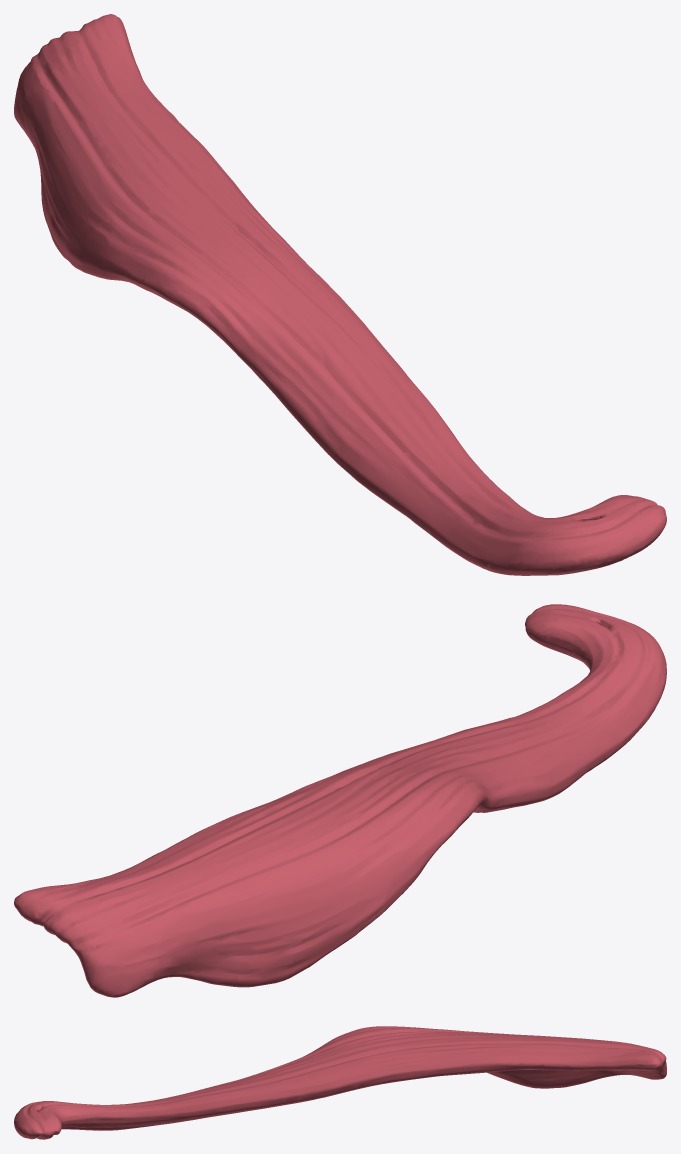
3 views of the same model, one above another, from view 1: azimuth 30°, elevation 25°; view 2: azimuth 150°, elevation 25°; view 3: azimuth 270°, elevation 25° (orthographic). The views are drawn at different scales.
Parts seen in each view (by area): view 1: 右侧腭咽肌; view 2: 右侧腭咽肌; view 3: 右侧腭咽肌.
Boxes of the visible parts, x1,y1,x2,y2 form: 右侧腭咽肌: (14,14,666,575); 右侧腭咽肌: (14,604,666,997); 右侧腭咽肌: (14,1026,666,1139).
Size of the model in its own units: 0.0302 by 0.0225 by 0.1297.
